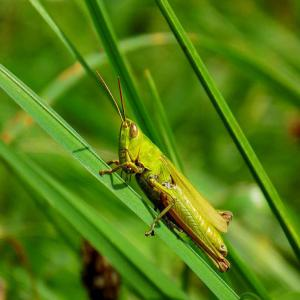locust: (99, 91, 234, 282)
